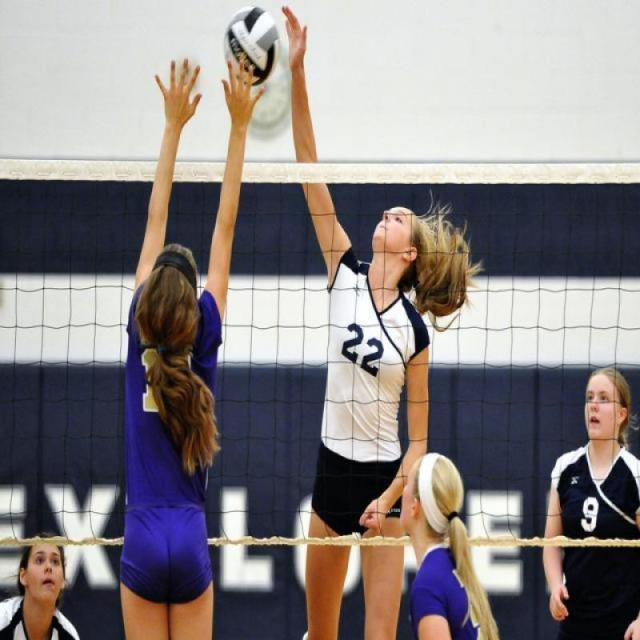volleyball: (221, 2, 281, 86)
